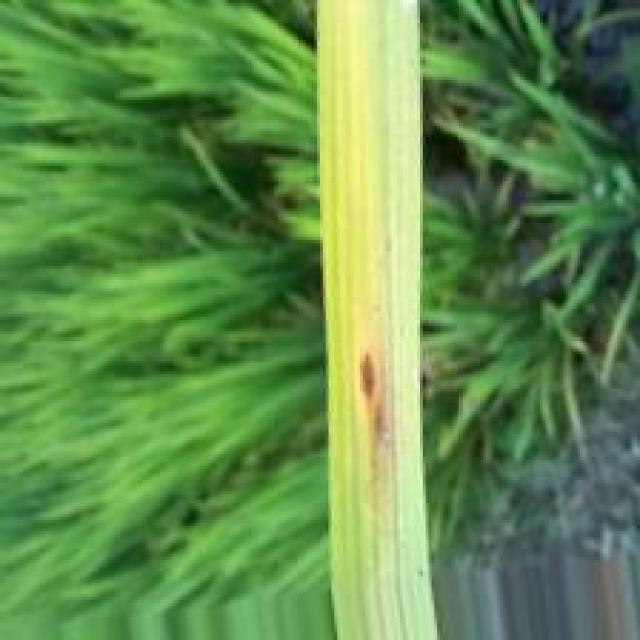Brown_Spot: (353, 338, 397, 459)
